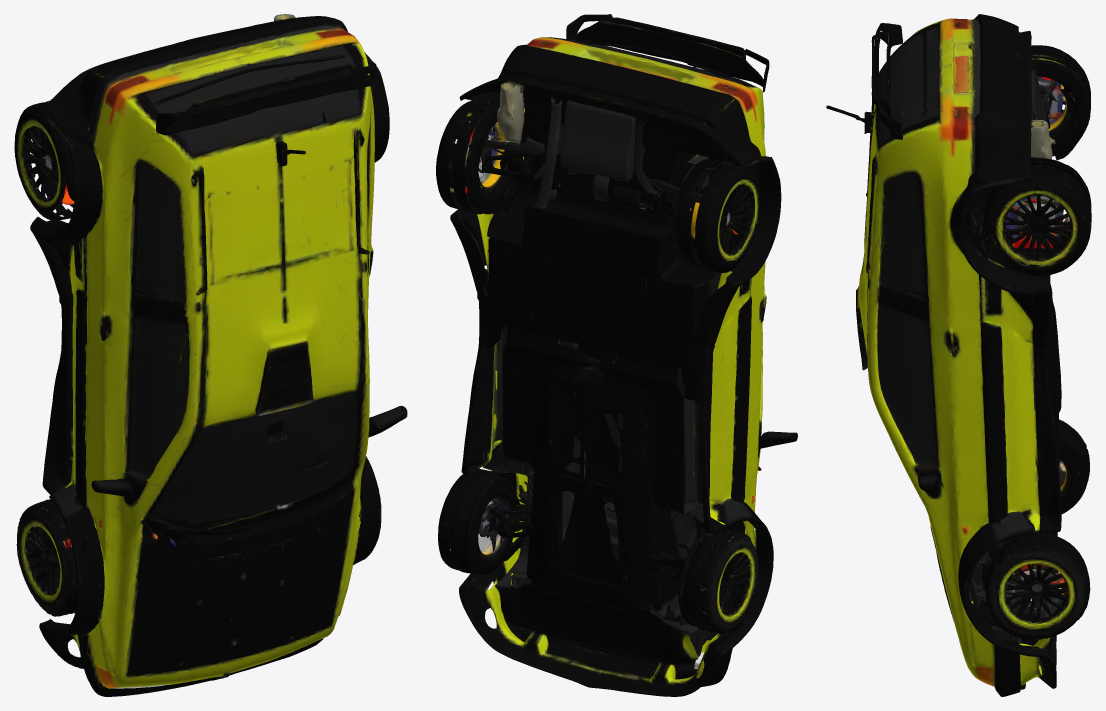
Rendered from hatch.glb.
3 views of the same model, side by side, from view 1: azimuth 30°, elevation 25°; view 2: azimuth 150°, elevation 25°; view 3: azimuth 270°, elevation 25° (orthographic). The views are drawn at different scales.
Visible parts, largest first — view 1: body; view 2: body; view 3: body.
Boxes of the visible parts, x1,y1,x2,y2 form: body: (14, 14, 407, 696); body: (436, 14, 797, 696); body: (826, 14, 1091, 696).
Bounding box in the file's own units: 0.6098 × 1.18 × 0.4753.
Materials: 1 (1 with a texture image).
